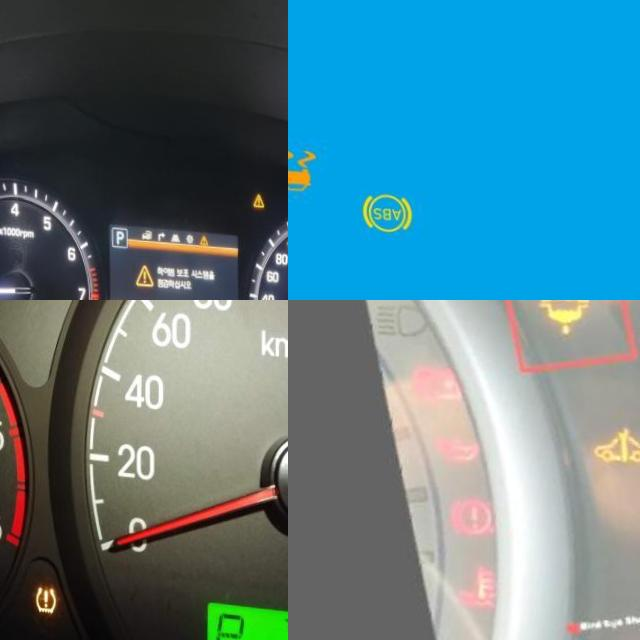Central Warning lamp: (133, 260, 151, 283), (251, 187, 262, 204)
Engine cooling system: (426, 545, 501, 626)
